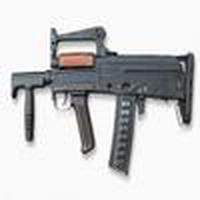gun: (5, 21, 193, 173)
